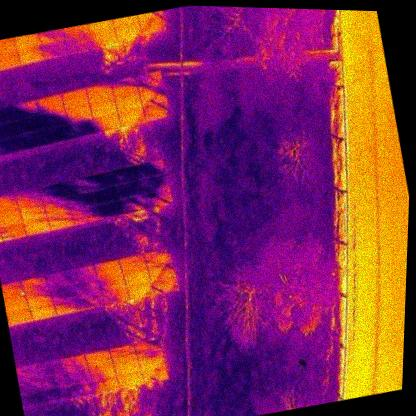Hotspot: (0, 220, 26, 242), (0, 280, 26, 300)
Normal: (88, 96, 118, 118), (60, 87, 90, 109), (89, 26, 118, 48), (113, 91, 143, 112), (113, 21, 143, 42), (94, 258, 124, 278), (17, 44, 45, 65), (122, 267, 151, 287), (85, 347, 113, 367), (15, 31, 42, 51), (5, 307, 33, 326), (113, 357, 141, 376), (117, 370, 144, 389), (3, 295, 29, 314), (0, 206, 22, 228), (30, 303, 56, 320), (0, 50, 20, 71), (0, 36, 18, 56)
Shadow: (110, 74, 139, 98), (118, 252, 148, 274), (71, 204, 101, 226), (144, 187, 174, 209), (67, 190, 97, 212), (15, 186, 45, 208), (141, 99, 171, 121), (36, 92, 66, 114), (135, 69, 165, 91), (132, 338, 163, 359), (90, 111, 121, 132), (101, 285, 130, 307), (119, 192, 148, 214), (141, 173, 170, 195), (64, 175, 93, 197), (89, 169, 118, 191), (138, 158, 167, 180), (16, 113, 45, 135), (39, 108, 69, 129), (84, 81, 114, 102), (41, 39, 71, 60), (43, 270, 74, 290), (41, 180, 69, 202), (44, 122, 72, 144), (59, 353, 88, 374), (49, 284, 78, 305), (69, 263, 98, 284), (92, 184, 121, 205), (113, 164, 142, 185), (66, 117, 95, 138), (138, 14, 167, 35), (116, 106, 146, 126), (22, 275, 49, 297), (21, 128, 48, 150), (43, 196, 71, 217), (64, 102, 92, 123), (66, 33, 94, 54), (76, 290, 105, 310), (126, 280, 155, 300), (96, 272, 125, 292), (143, 247, 172, 267), (88, 360, 117, 380), (110, 343, 138, 363), (151, 275, 179, 295), (73, 278, 101, 298), (23, 215, 51, 235), (117, 179, 145, 199), (139, 86, 167, 106), (35, 359, 64, 378), (52, 297, 81, 316), (63, 367, 92, 386), (48, 211, 75, 231), (93, 374, 120, 394), (19, 203, 47, 222), (68, 380, 96, 399), (137, 352, 165, 371), (148, 262, 175, 281), (14, 100, 41, 119), (0, 134, 24, 155), (38, 27, 66, 45), (39, 372, 67, 390), (97, 200, 123, 219), (142, 364, 168, 383), (25, 290, 52, 308), (45, 385, 71, 403), (0, 119, 21, 141), (0, 191, 20, 214), (0, 104, 17, 126)
